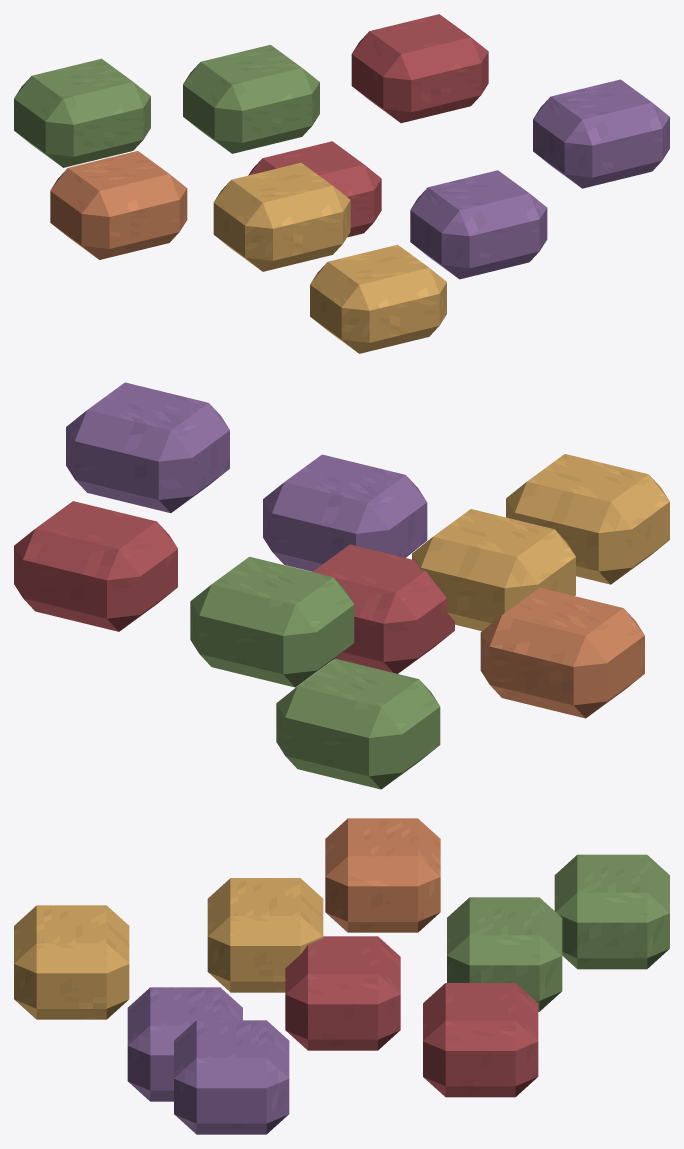
Rendered from candy3.glb.
3 renders of one model, top to bottom at view 1: azimuth 30°, elevation 25°; view 2: azimuth 150°, elevation 25°; view 3: azimuth 270°, elevation 25°, orthographic. The views are drawn at different scales.
Visible parts, largest first — view 1: block_fruit chew tablet (×9); view 2: block_fruit chew tablet (×9); view 3: block_fruit chew tablet (×9).
Part boxes in pixels (x1,y1,x2,y2): block_fruit chew tablet (×9): (14, 14, 669, 353); block_fruit chew tablet (×9): (14, 382, 669, 789); block_fruit chew tablet (×9): (14, 818, 669, 1134).
Size of the model in its own units: 0.0593 by 0.0119 by 0.0585.
Materials: 1 (1 with a texture image).
